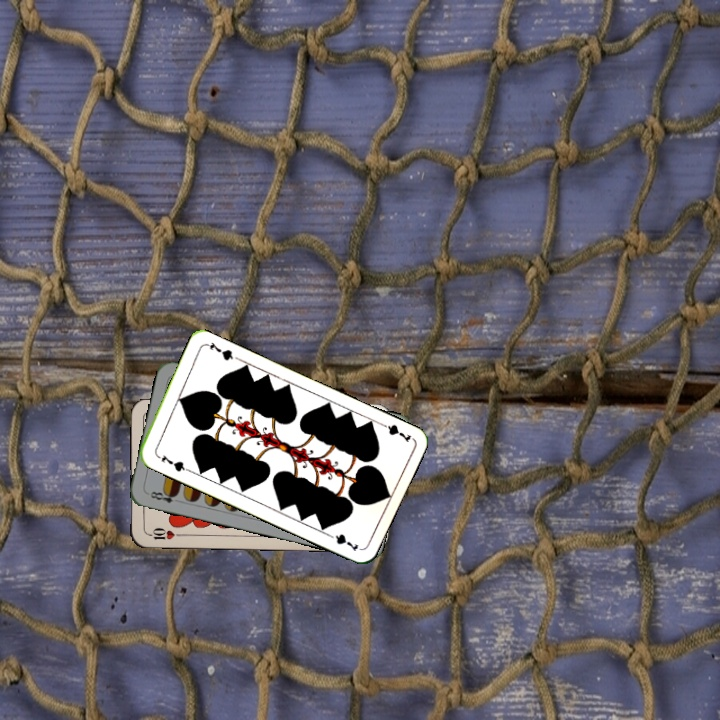E8: (144, 486, 184, 506)
G7: (375, 418, 414, 445), (152, 450, 191, 474)
H10: (143, 524, 184, 543)
